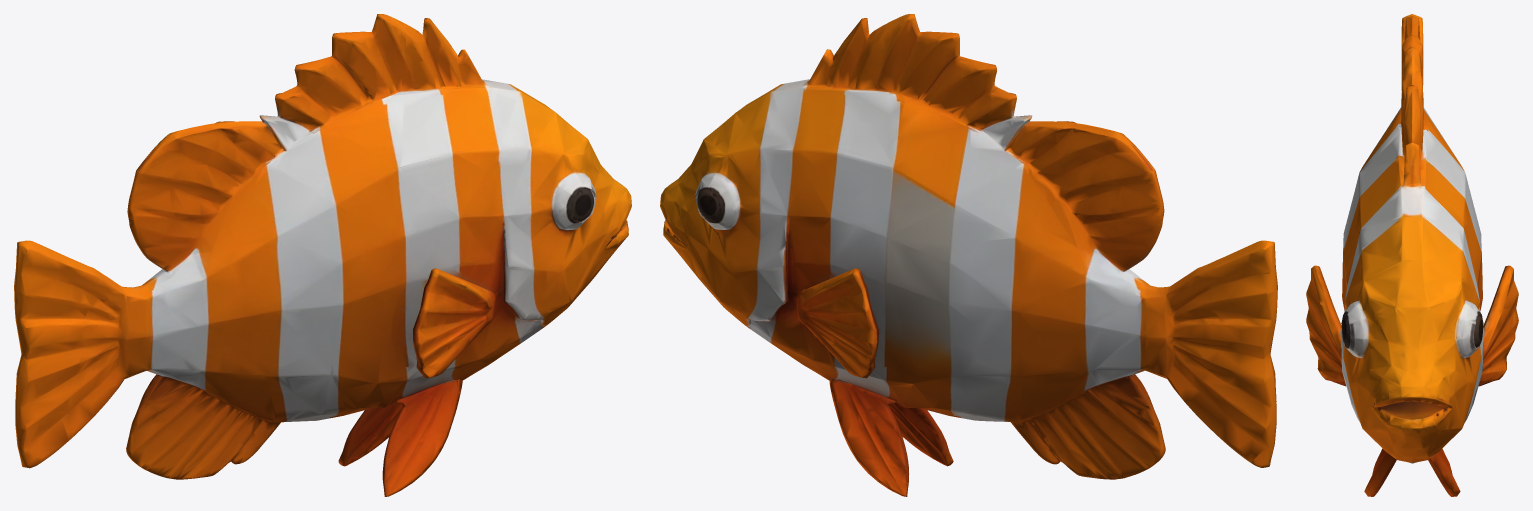
The model's file is fish.glb.
The picture shows the model from 3 angles, left to right: view 1: azimuth 30°, elevation 25°; view 2: azimuth 150°, elevation 25°; view 3: azimuth 270°, elevation 25°; orthographic projection. The views are drawn at different scales.
Visible parts, largest first — view 1: node_0; view 2: node_0; view 3: node_0.
Part boxes in pixels (x1,y1,x2,y2): node_0: [14, 14, 631, 496]; node_0: [660, 14, 1277, 496]; node_0: [1306, 14, 1518, 496].
Size of the model in its own units: 1.13 by 0.8172 by 0.3477.
Materials: 1 (1 with a texture image).
